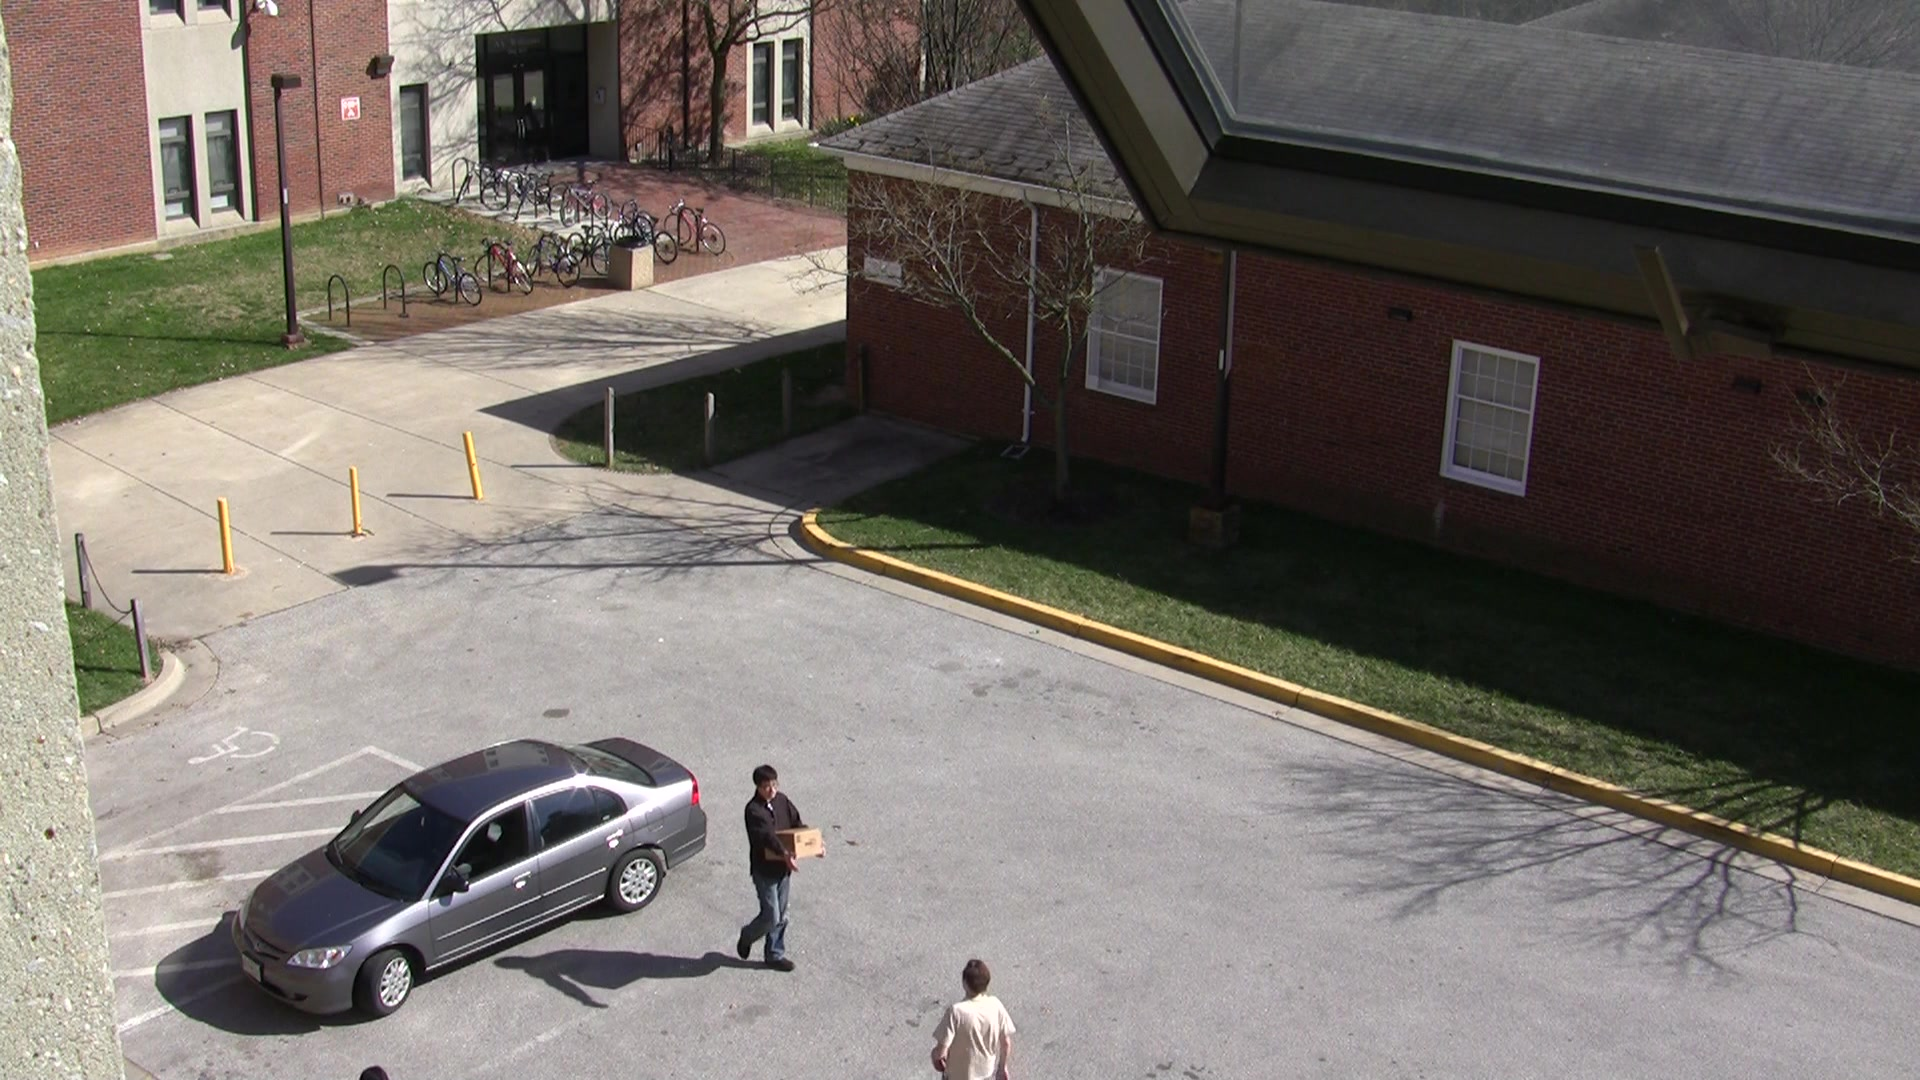person: (727, 740, 800, 988), (915, 949, 1031, 1080)
